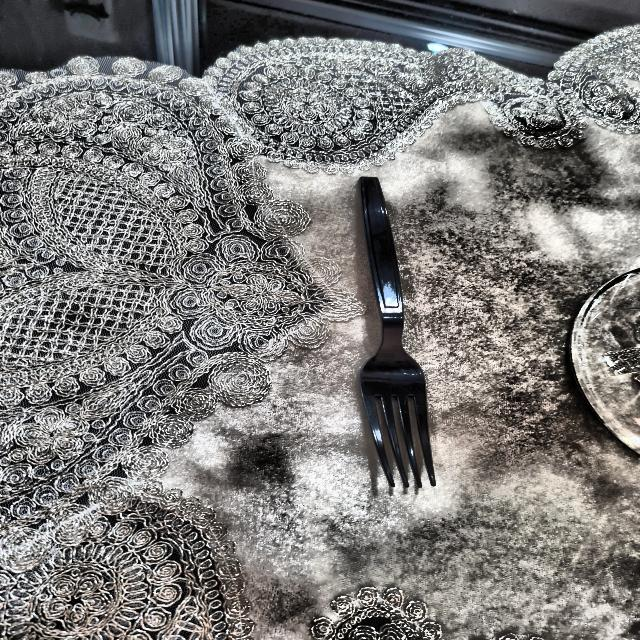plastic utensil: (348, 178, 447, 491)
